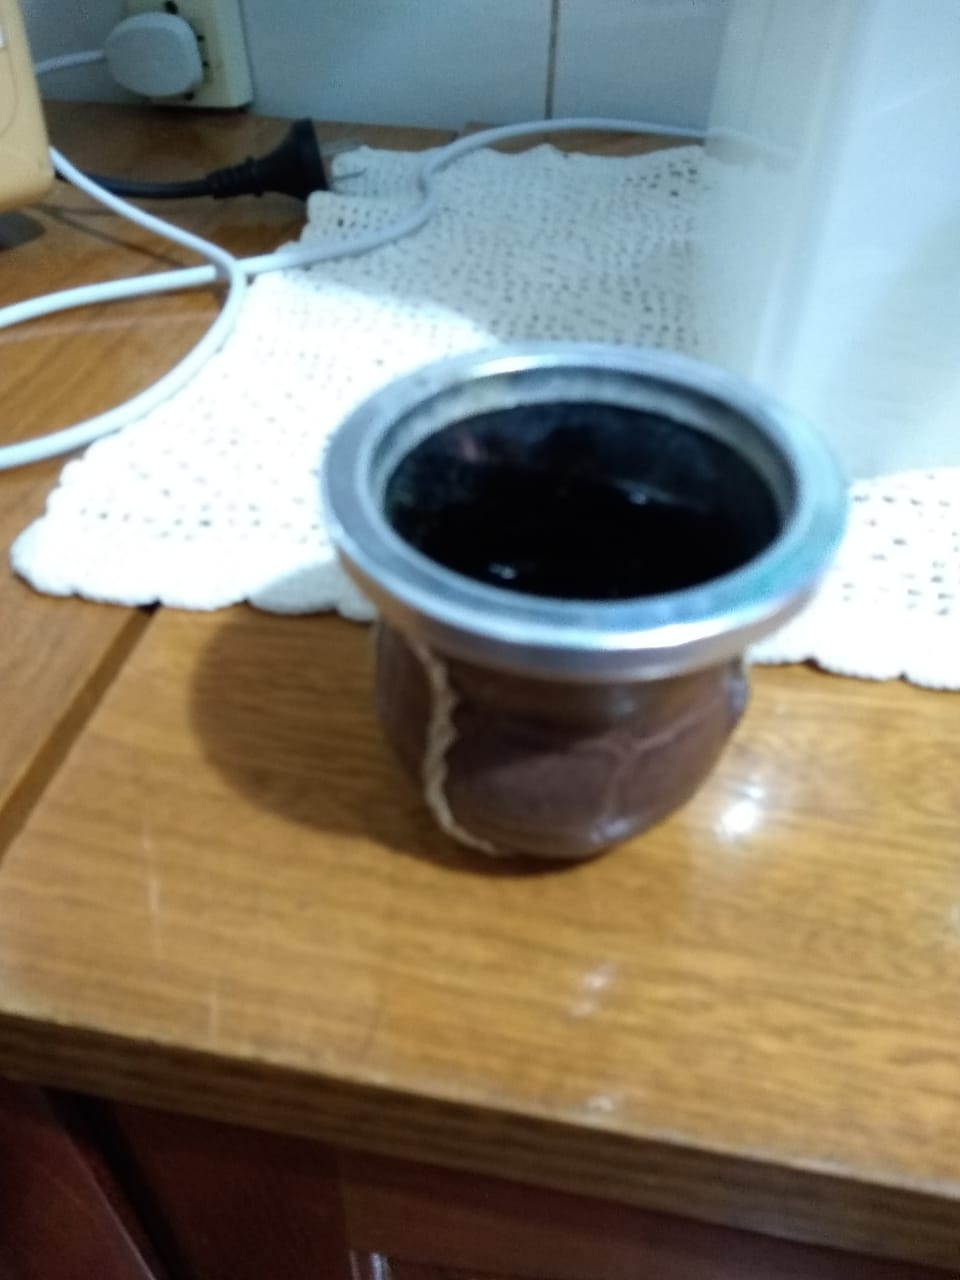mate: (314, 333, 849, 888)
plastico: (312, 331, 847, 886)
